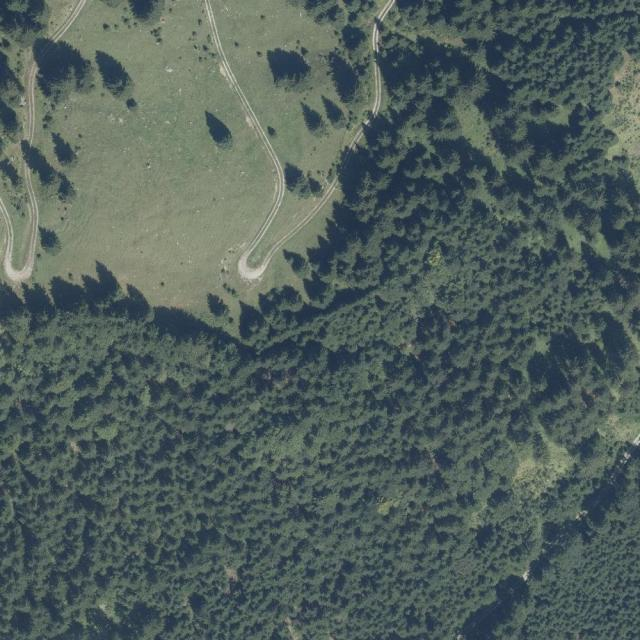greenland: (212, 0, 377, 177), (21, 134, 88, 281), (32, 32, 97, 105), (0, 124, 34, 256), (267, 184, 319, 247), (274, 158, 328, 208), (45, 128, 78, 167), (128, 0, 160, 20)
unmetalled_road: (218, 154, 344, 287), (0, 162, 41, 287), (360, 0, 396, 118), (24, 60, 38, 146), (205, 0, 214, 24)
